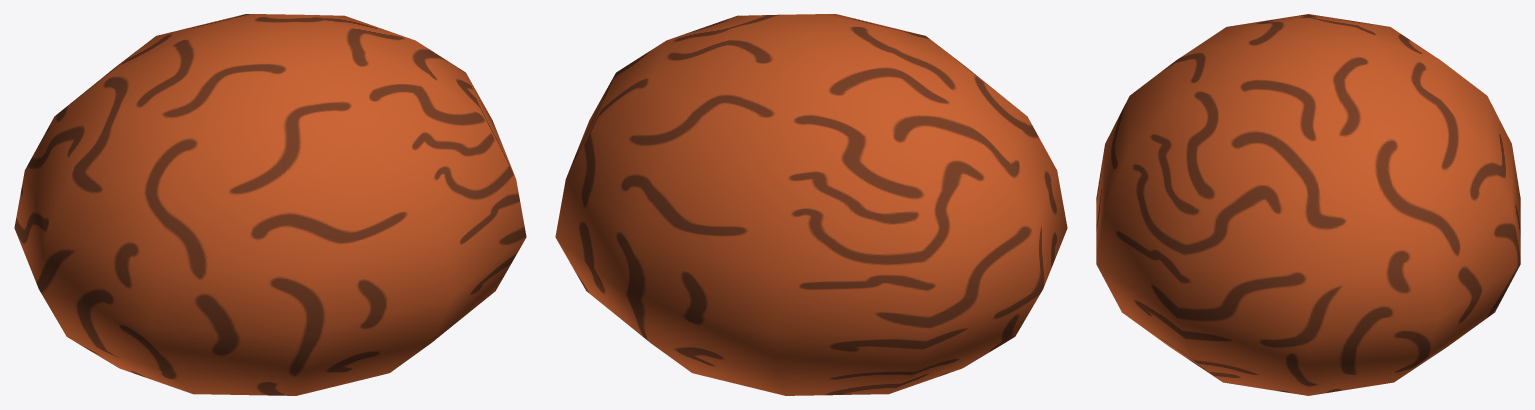
File: Coral03.fbx
The picture shows the model from 3 angles, left to right: view 1: azimuth 30°, elevation 25°; view 2: azimuth 150°, elevation 25°; view 3: azimuth 270°, elevation 25°; orthographic projection. The views are drawn at different scales.
Parts seen in each view (by area): view 1: Coral03; view 2: Coral03; view 3: Coral03.
Boxes of the visible parts, left/top/right/bottom form: Coral03: left=14, top=14, right=526, bottom=395; Coral03: left=555, top=14, right=1067, bottom=395; Coral03: left=1096, top=14, right=1520, bottom=395.
Bounding box in the file's own units: 2.35 × 1.62 × 1.95.
